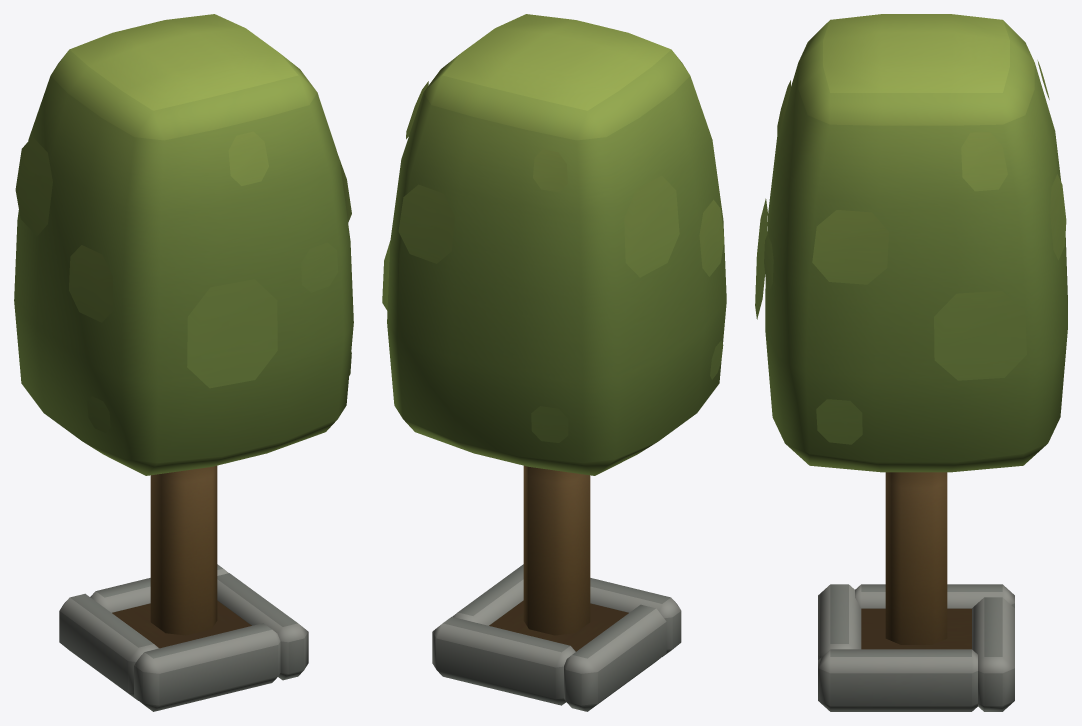
File: tree_3.fbx
The picture shows the model from 3 angles, left to right: view 1: azimuth 30°, elevation 25°; view 2: azimuth 150°, elevation 25°; view 3: azimuth 270°, elevation 25°; orthographic projection. The views are drawn at different scales.
Visible parts, largest first — view 1: tree_3; view 2: tree_3; view 3: tree_3.
Part boxes in pixels (x1,y1,x2,y2): tree_3: [14, 14, 353, 711]; tree_3: [382, 14, 726, 711]; tree_3: [755, 14, 1067, 711].
Bounding box in the file's own units: 254 × 565 × 254.
